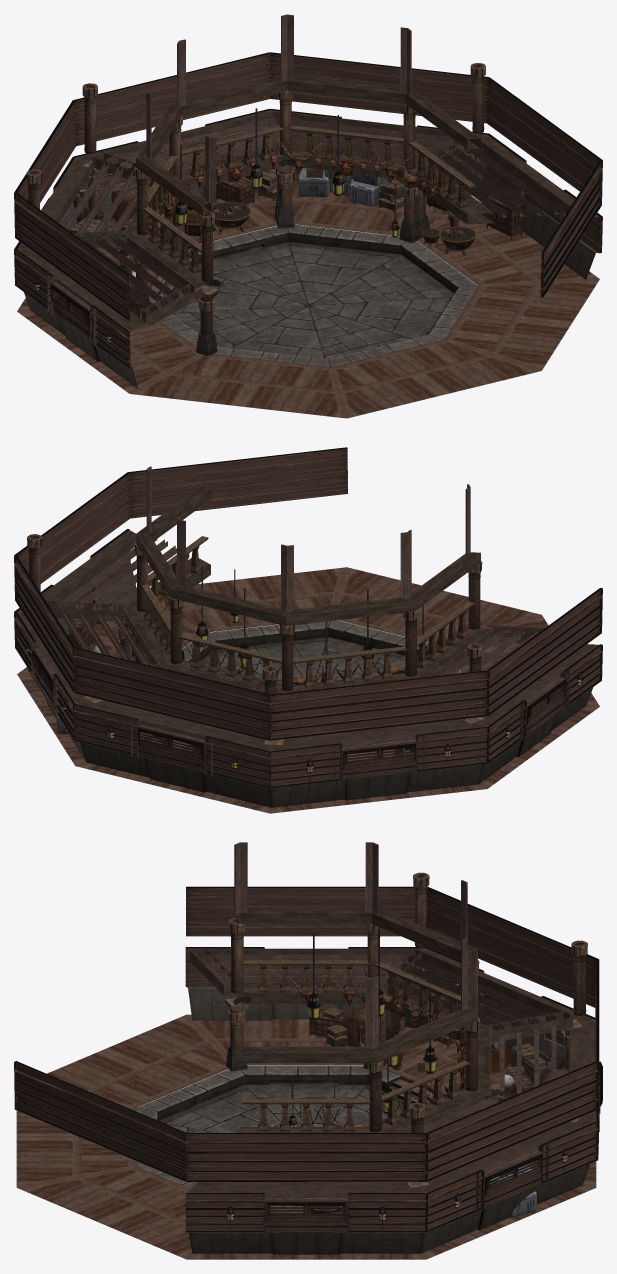
The model's file is env_van_ypso_01_pre.glb.
3 views of the same model, one above another, from view 1: azimuth 30°, elevation 25°; view 2: azimuth 150°, elevation 25°; view 3: azimuth 270°, elevation 25° (orthographic). The views are drawn at different scales.
Parts seen in each view (by area): view 1: van_ypso_floor_wood, van_ypso_beams (×5), van_ypso_floor_stone, van_ypso_wall_01b, van_ypso_wall_01a (×3), van_ypso_wall_01b (1), van_ypso_wall_01b (2), van_ypso_misc_01_mesh (×5), Van_Ypso_pillars_01b (×4), Van_Ypso_pillars_01a (×3), Van_Ypso_pillars_01b (1) (×2), van_crate_01c (+6 smaller); view 2: van_ypso_beams (×5), van_ypso_wall_01a (×5), van_ypso_floor_wood, van_ypso_wall_01b (2), van_ypso_wall_01b (1), van_ypso_wall_01b, van_ypso_floor_stone, van_ypso_misc_01_mesh (×5), Van_Ypso_pillars_01b (×5), Van_Ypso_pillars_01b (1); view 3: van_ypso_beams (×5), van_ypso_floor_wood, van_ypso_wall_01a (×4), van_ypso_wall_01b (1), van_ypso_wall_01b (2), van_ypso_floor_stone, van_ypso_wall_01b, van_ypso_misc_01_mesh (×4), Van_Ypso_pillars_01b (×4), Van_Ypso_pillars_01b (1) (×2), Van_Ypso_pillars_01a, van_ypso_crate_01b (+1 smaller).
Boxes of the visible parts, left/top/right/bottom form: van_ypso_floor_wood: left=17, top=180, right=599, bottom=418; van_ypso_beams (×5): left=17, top=14, right=599, bottom=345; van_ypso_floor_stone: left=149, top=224, right=478, bottom=367; van_ypso_wall_01b: left=73, top=52, right=488, bottom=145; van_ypso_wall_01a (×3): left=14, top=109, right=602, bottom=388; van_ypso_wall_01b (1): left=486, top=77, right=602, bottom=297; van_ypso_wall_01b (2): left=14, top=100, right=130, bottom=320; van_ypso_misc_01_mesh (×5): left=142, top=125, right=475, bottom=273; Van_Ypso_pillars_01b (×4): left=135, top=91, right=415, bottom=281; Van_Ypso_pillars_01a (×3): left=195, top=166, right=420, bottom=356; Van_Ypso_pillars_01b (1) (×2): left=82, top=63, right=485, bottom=153; van_crate_01c: left=325, top=170, right=387, bottom=206; van_ypso_beams (×5): left=17, top=466, right=599, bottom=782; van_ypso_wall_01a (×5): left=14, top=529, right=602, bottom=807; van_ypso_floor_wood: left=17, top=567, right=599, bottom=813; van_ypso_wall_01b (2): left=269, top=588, right=602, bottom=740; van_ypso_wall_01b (1): left=14, top=447, right=347, bottom=600; van_ypso_wall_01b: left=14, top=555, right=271, bottom=740; van_ypso_floor_stone: left=182, top=620, right=461, bottom=755; van_ypso_misc_01_mesh (×5): left=141, top=536, right=475, bottom=688; Van_Ypso_pillars_01b (×5): left=135, top=543, right=482, bottom=690; Van_Ypso_pillars_01b (1): left=27, top=534, right=42, bottom=591; van_ypso_beams (×5): left=187, top=842, right=599, bottom=1213; van_ypso_floor_wood: left=16, top=1014, right=596, bottom=1259; van_ypso_wall_01a (×4): left=185, top=947, right=598, bottom=1254; van_ypso_wall_01b (1): left=14, top=1061, right=427, bottom=1181; van_ypso_wall_01b (2): left=186, top=886, right=598, bottom=1007; van_ypso_floor_stone: left=137, top=1066, right=433, bottom=1207; van_ypso_wall_01b: left=425, top=959, right=599, bottom=1181; van_ypso_misc_01_mesh (×4): left=242, top=960, right=470, bottom=1131; Van_Ypso_pillars_01b (×4): left=229, top=918, right=479, bottom=1132; Van_Ypso_pillars_01b (1) (×2): left=413, top=872, right=587, bottom=1015; Van_Ypso_pillars_01a: left=224, top=997, right=249, bottom=1071; van_ypso_crate_01b: left=347, top=1006, right=400, bottom=1046.
Size of the model in its own units: 22.95 by 10.16 by 22.8.
Materials: 19 (19 with a texture image).
